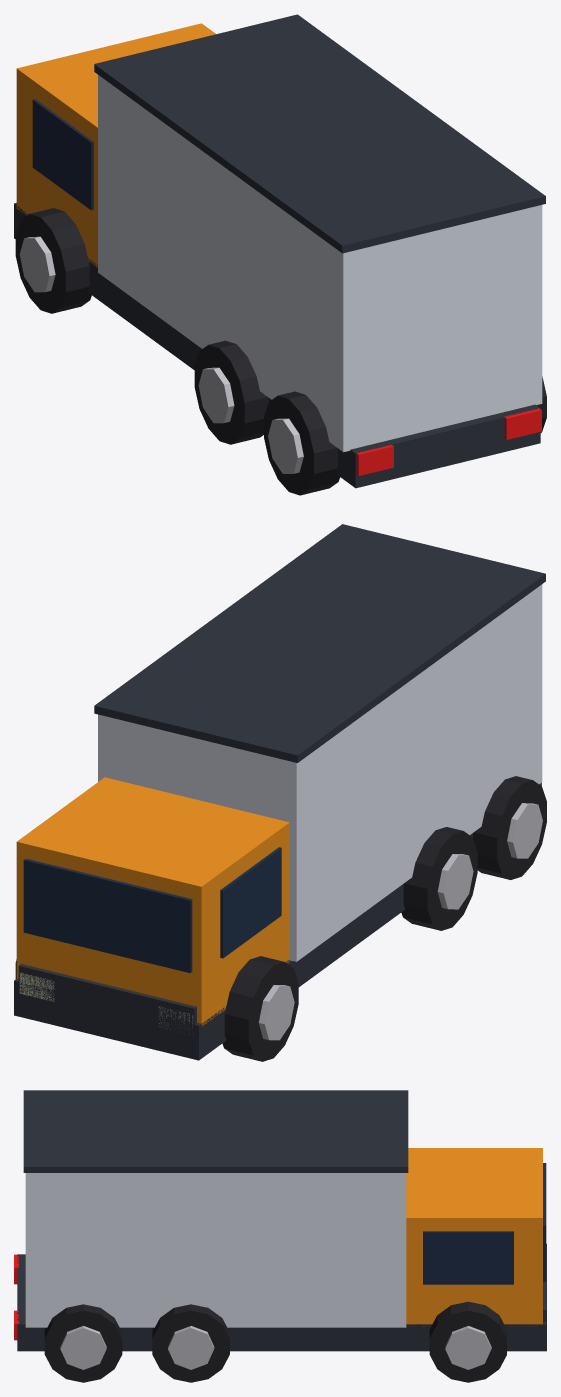
Rendered from truck.obj.
The picture shows the model from 3 angles, top to bottom: view 1: azimuth 30°, elevation 25°; view 2: azimuth 150°, elevation 25°; view 3: azimuth 270°, elevation 25°; orthographic projection. The views are drawn at different scales.
Bounding box in the file's own units: 2.65 × 2.8 × 6.44.
